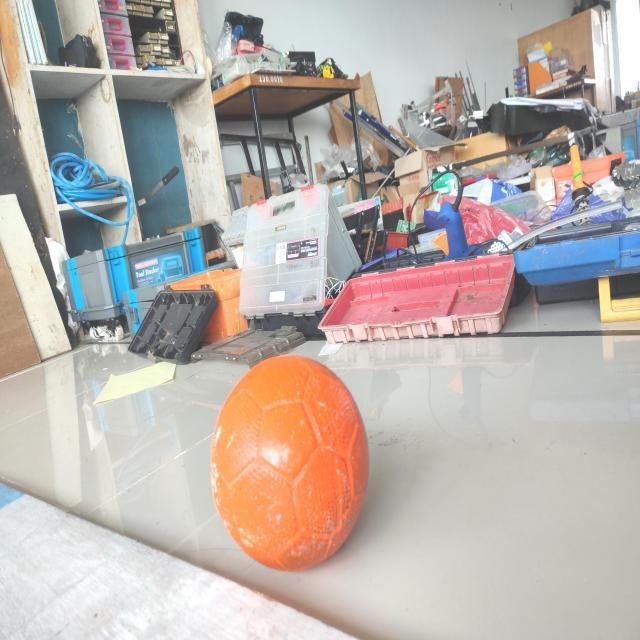bola: (202, 344, 388, 579)
